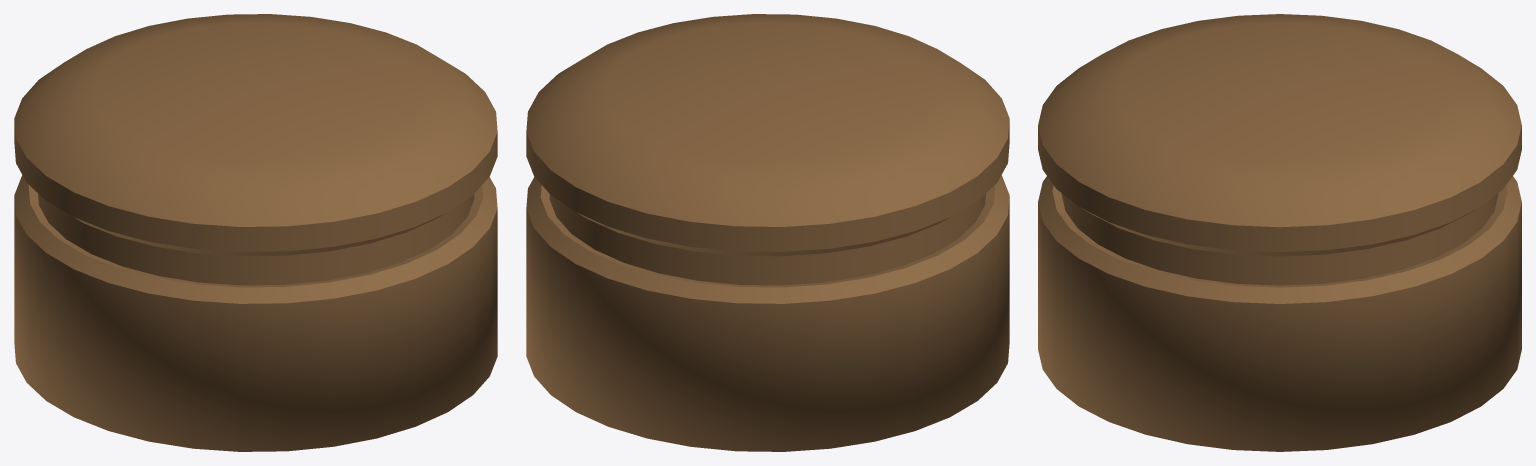
File: SM_button_top.fbx
The picture shows the model from 3 angles, left to right: view 1: azimuth 30°, elevation 25°; view 2: azimuth 150°, elevation 25°; view 3: azimuth 270°, elevation 25°; orthographic projection.
Visible parts, largest first — view 1: Button; view 2: Button; view 3: Button.
Boxes of the visible parts, <box> form: Button: <box>14,14,497,451</box>; Button: <box>526,14,1009,451</box>; Button: <box>1038,14,1521,451</box>.
Bounding box in the file's own units: 2.46 × 2.46 × 1.49.
